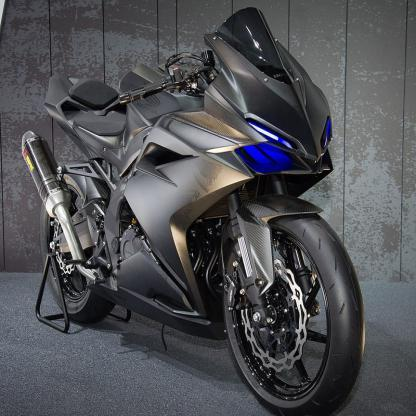Motorcycle: (15, 5, 373, 415)
